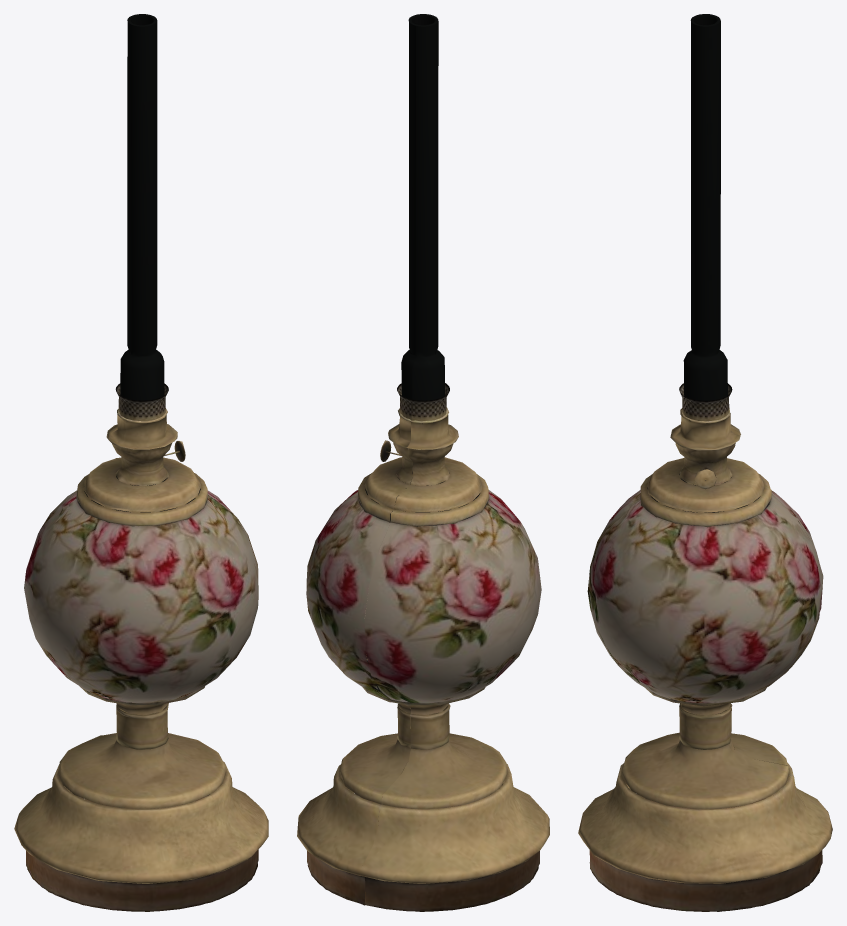
File: oil_lamp.glb
3 views of the same model, side by side, from view 1: azimuth 30°, elevation 25°; view 2: azimuth 150°, elevation 25°; view 3: azimuth 270°, elevation 25° (orthographic).
Visible parts, largest first — view 1: vintage_oil_lamp, vintage_oil_lamp_glass; view 2: vintage_oil_lamp, vintage_oil_lamp_glass; view 3: vintage_oil_lamp, vintage_oil_lamp_glass.
Boxes of the visible parts, x1=… form: vintage_oil_lamp: x1=14, y1=408, x2=268, y2=911; vintage_oil_lamp_glass: x1=115, y1=14, x2=168, y2=421; vintage_oil_lamp: x1=297, y1=407, x2=549, y2=911; vintage_oil_lamp_glass: x1=397, y1=14, x2=449, y2=422; vintage_oil_lamp: x1=578, y1=408, x2=832, y2=911; vintage_oil_lamp_glass: x1=679, y1=14, x2=732, y2=423.
Size of the model in its own units: 0.2198 by 0.8016 by 0.2197.
3 materials, 3 textured.
